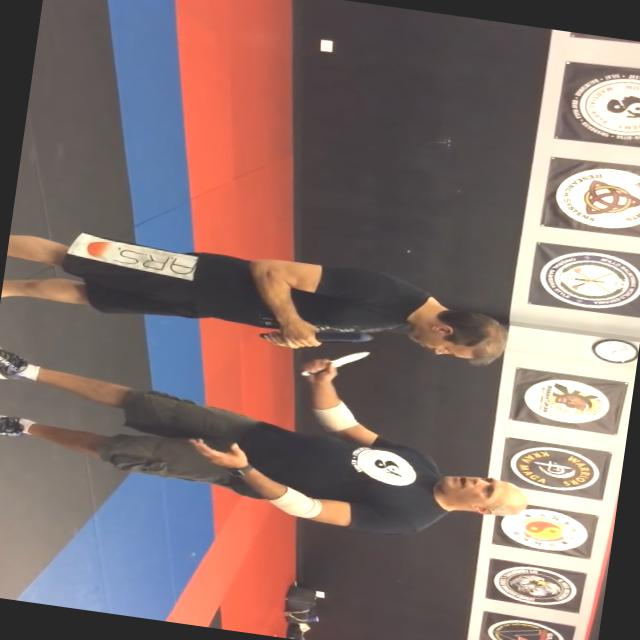knife: (294, 340, 377, 388)
